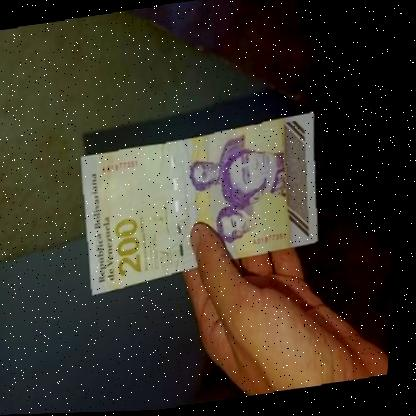two_hundred-front-vef: (72, 112, 333, 297)
